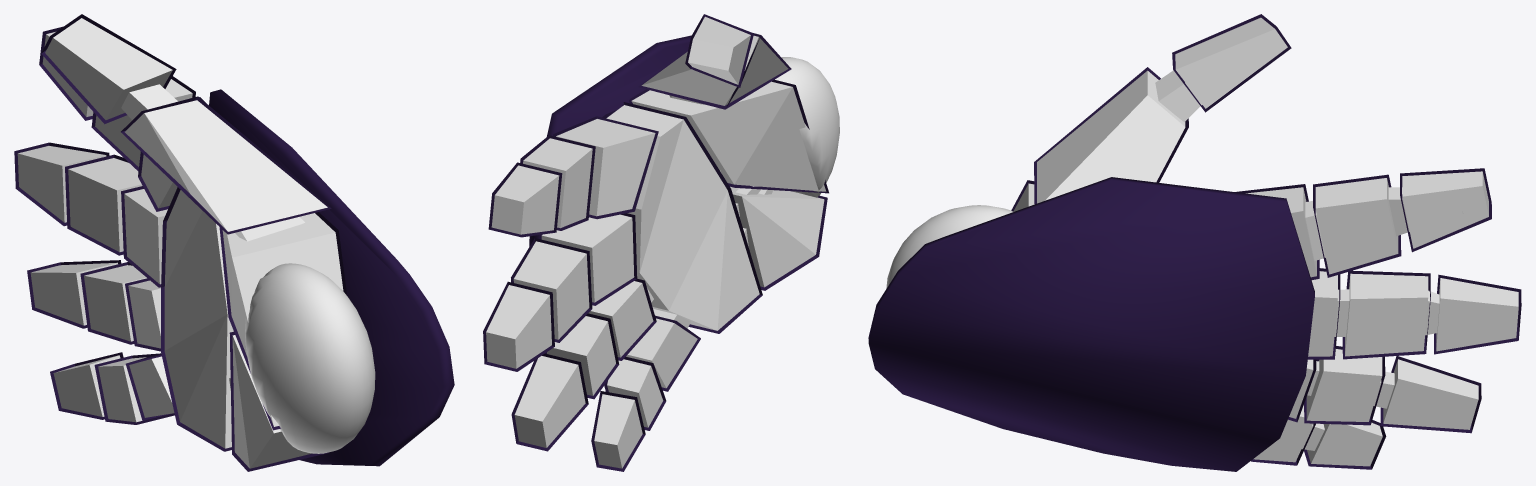
The model's file is hand-R.fbx.
3 renders of one model, left to right at view 1: azimuth 30°, elevation 25°; view 2: azimuth 150°, elevation 25°; view 3: azimuth 270°, elevation 25°, orthographic. The views are drawn at different scales.
Visible parts, largest first — view 1: hand, shield, universe, Cube; view 2: hand, shield, universe, Cube; view 3: shield, hand, Cube, universe.
Part boxes in pixels (box(x1,y1,x2,y2)): hand: box(14, 14, 347, 471); shield: box(209, 89, 454, 466); universe: box(245, 263, 375, 453); Cube: box(121, 84, 304, 390); hand: box(483, 14, 828, 471); shield: box(529, 35, 691, 246); universe: box(775, 57, 839, 197); Cube: box(647, 95, 773, 328); shield: box(868, 177, 1314, 471); hand: box(1011, 14, 1521, 469); Cube: box(1155, 70, 1463, 450); universe: box(886, 205, 1012, 288).
Size of the model in its own units: 7.94 by 16.54 by 23.35.
